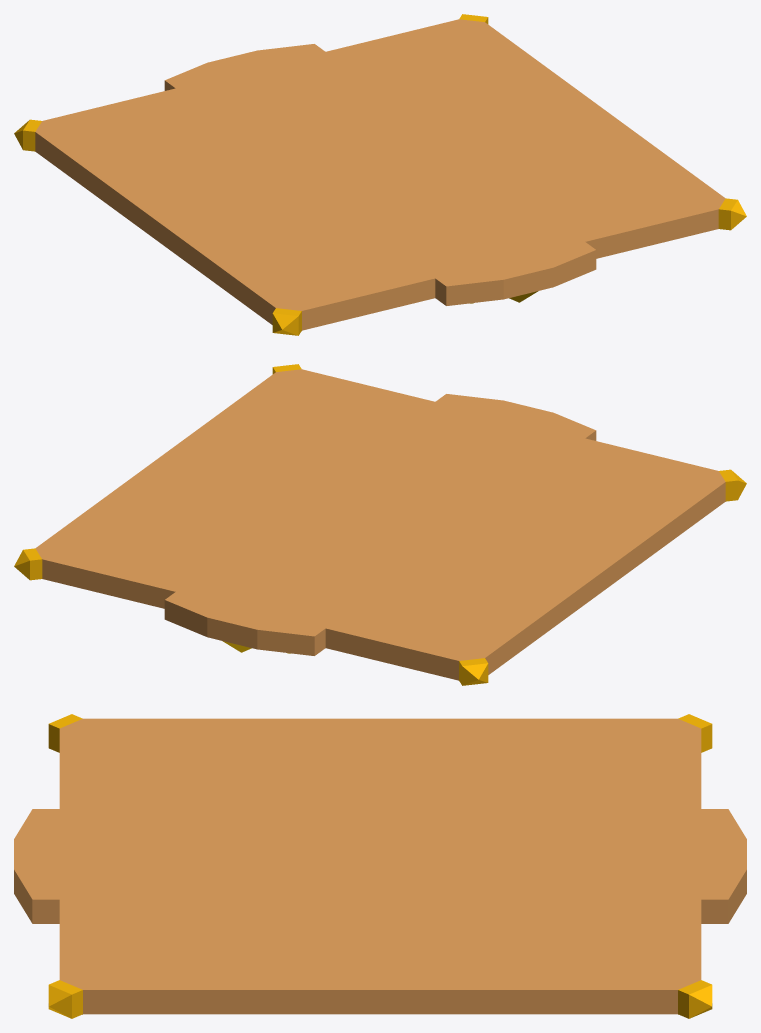
File: Baroque_Ornament.glb
3 views of the same model, one above another, from view 1: azimuth 30°, elevation 25°; view 2: azimuth 150°, elevation 25°; view 3: azimuth 270°, elevation 25° (orthographic). The views are drawn at different scales.
Visible parts, largest first — view 1: PF_Barroque; view 2: PF_Barroque; view 3: PF_Barroque.
Part boxes in pixels (left/top/right/bottom): PF_Barroque: left=14, top=14, right=746, bottom=335; PF_Barroque: left=14, top=364, right=746, bottom=685; PF_Barroque: left=14, top=714, right=746, bottom=1018.
Size of the model in its own units: 1.1 by 0.0813 by 1.22.
3 materials, 1 textured.
